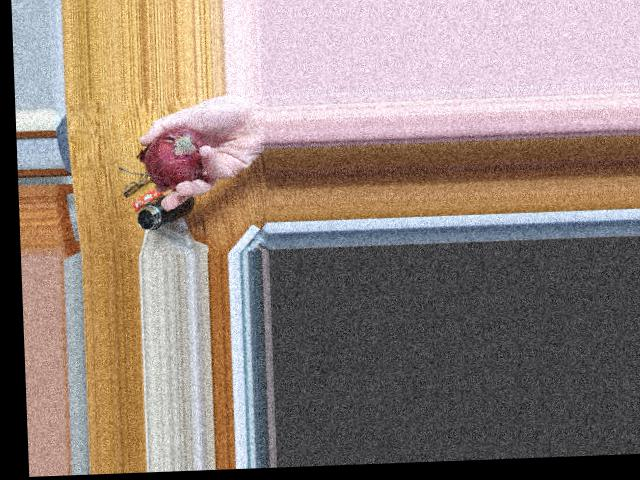onion: (144, 129, 206, 184)
